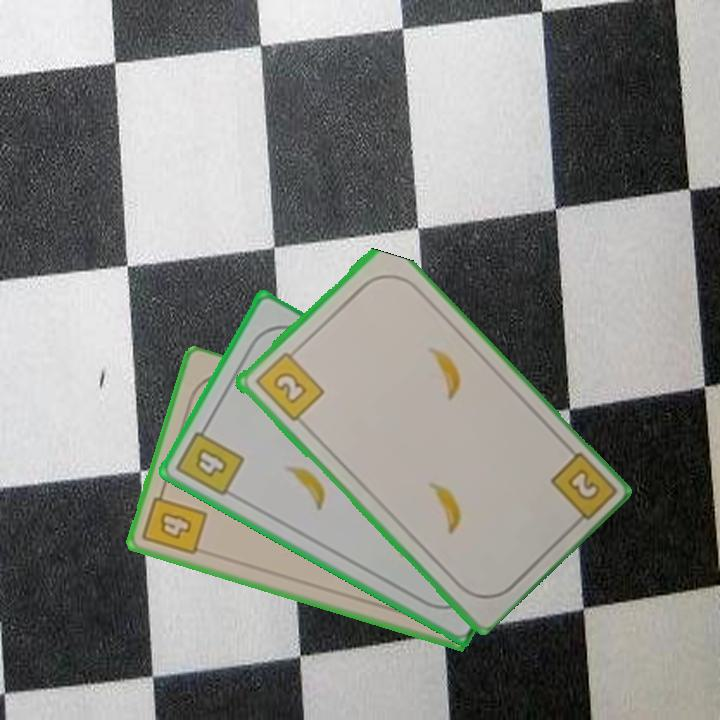2b: (251, 344, 326, 424), (546, 448, 616, 532)
4b: (172, 419, 247, 499), (139, 483, 210, 559)
